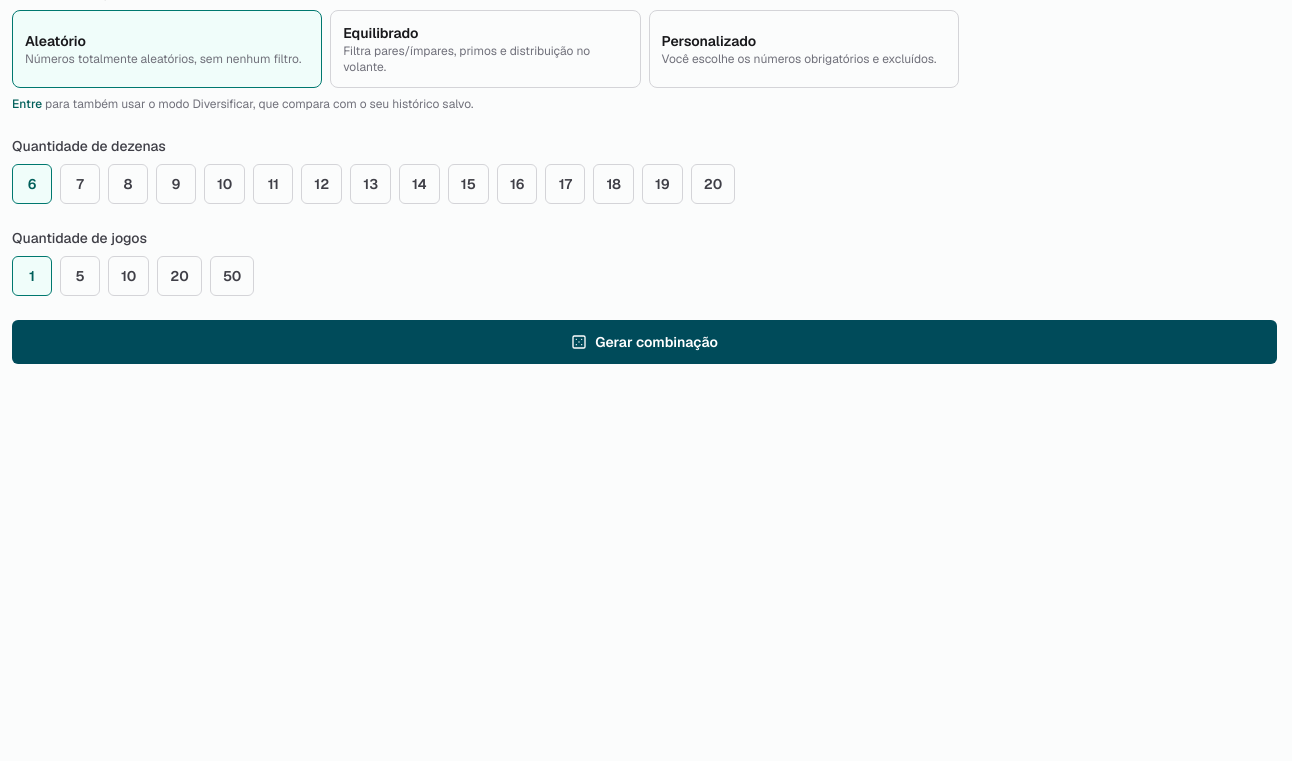
Test: MegaSenaGenerator › mostra os controles do modo Personalizado somente quando selecionado
Check: the text "Quero incluir" is not shown
Click the button "Personalizado".
click(804, 49)  # box [648,10,959,88]
(page scrolled)
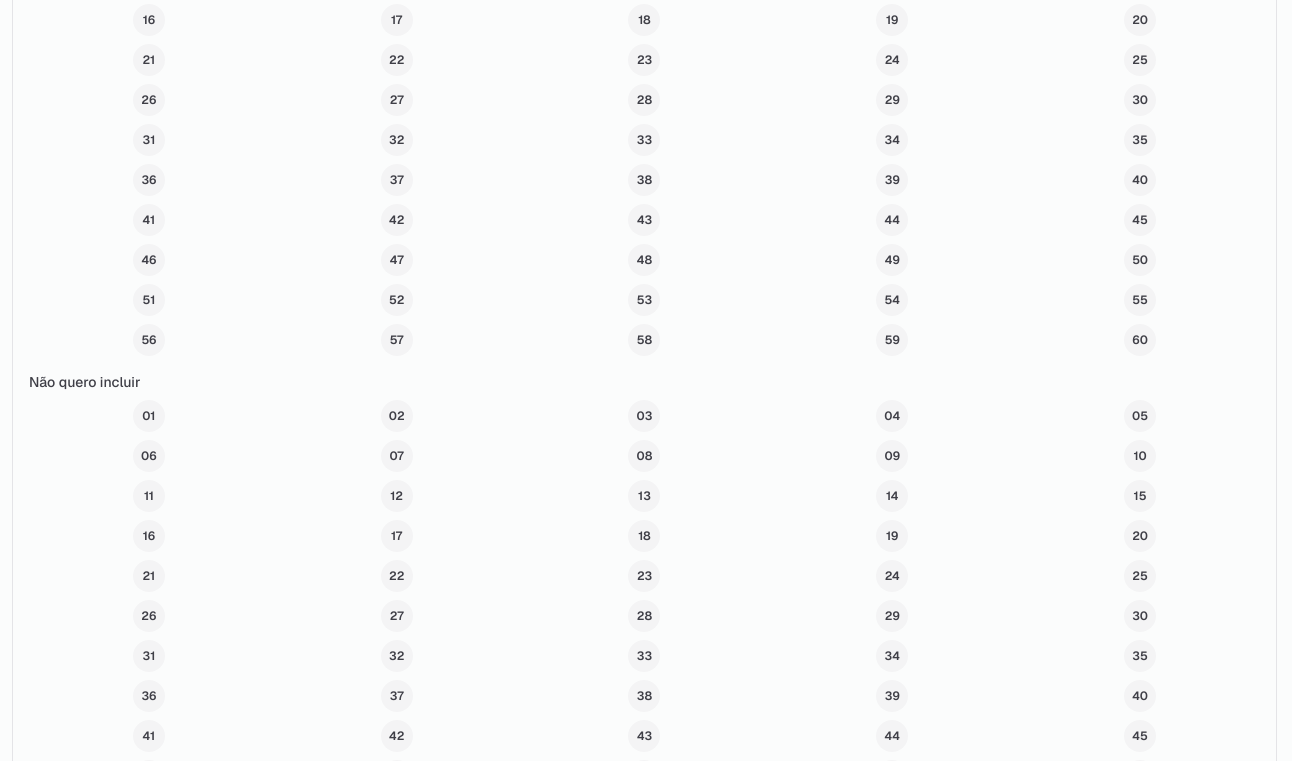
Check: the text "Não quero incluir" is shown, box [29,373,140,391]
